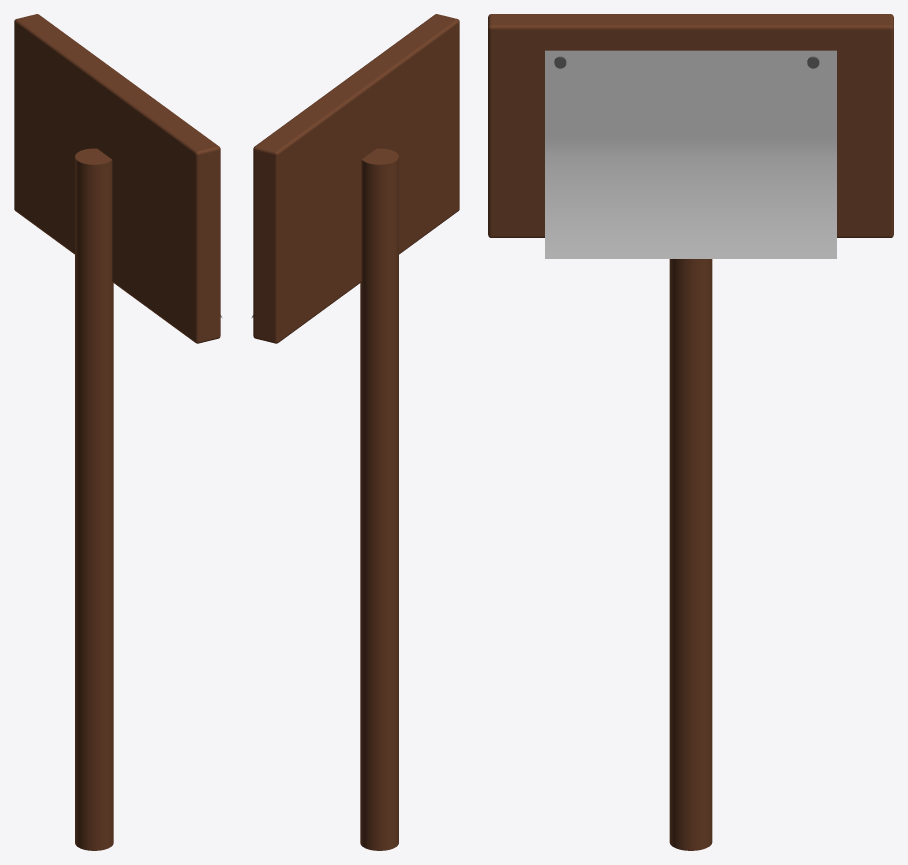
The model's file is blank sign.fbx.
3 views of the same model, side by side, from view 1: azimuth 30°, elevation 25°; view 2: azimuth 150°, elevation 25°; view 3: azimuth 270°, elevation 25° (orthographic). The views are drawn at different scales.
Visible parts, largest first — view 1: Cube, Cylinder; view 2: Cube, Cylinder; view 3: Plane_1, Cube, Cylinder.
Part boxes in pixels (x1,y1,x2,y2): Cube: (14, 14, 220, 343); Cylinder: (75, 148, 113, 850); Cube: (253, 14, 459, 343); Cylinder: (360, 148, 398, 850); Plane_1: (545, 50, 836, 258); Cube: (488, 14, 893, 237); Cylinder: (669, 259, 712, 850).
Bounding box in the file's own units: 30.31 × 276 × 122.
